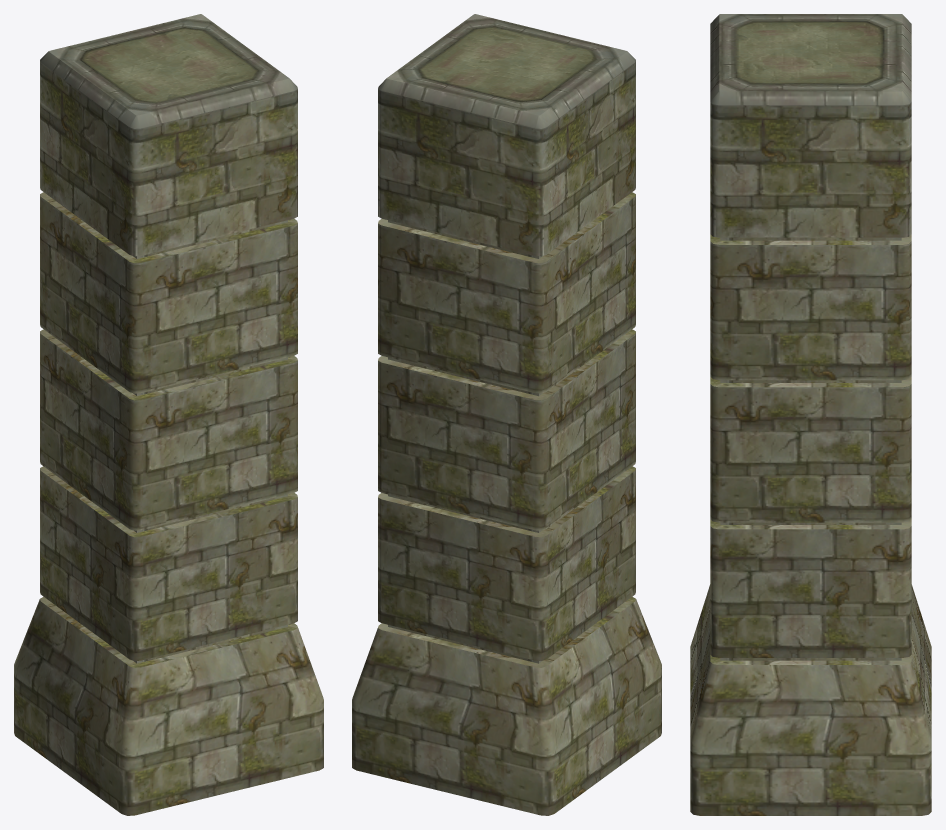
File: colum-01.fbx
3 renders of one model, left to right at view 1: azimuth 30°, elevation 25°; view 2: azimuth 150°, elevation 25°; view 3: azimuth 270°, elevation 25°, orthographic. The views are drawn at different scales.
Parts seen in each view (by area): view 1: Cube.220; view 2: Cube.220; view 3: Cube.220.
Boxes of the visible parts, bbox=[...] form: Cube.220: bbox=[14, 14, 323, 815]; Cube.220: bbox=[352, 14, 661, 815]; Cube.220: bbox=[690, 14, 931, 815].
Bounding box in the file's own units: 0.768 × 2.5 × 0.768.
